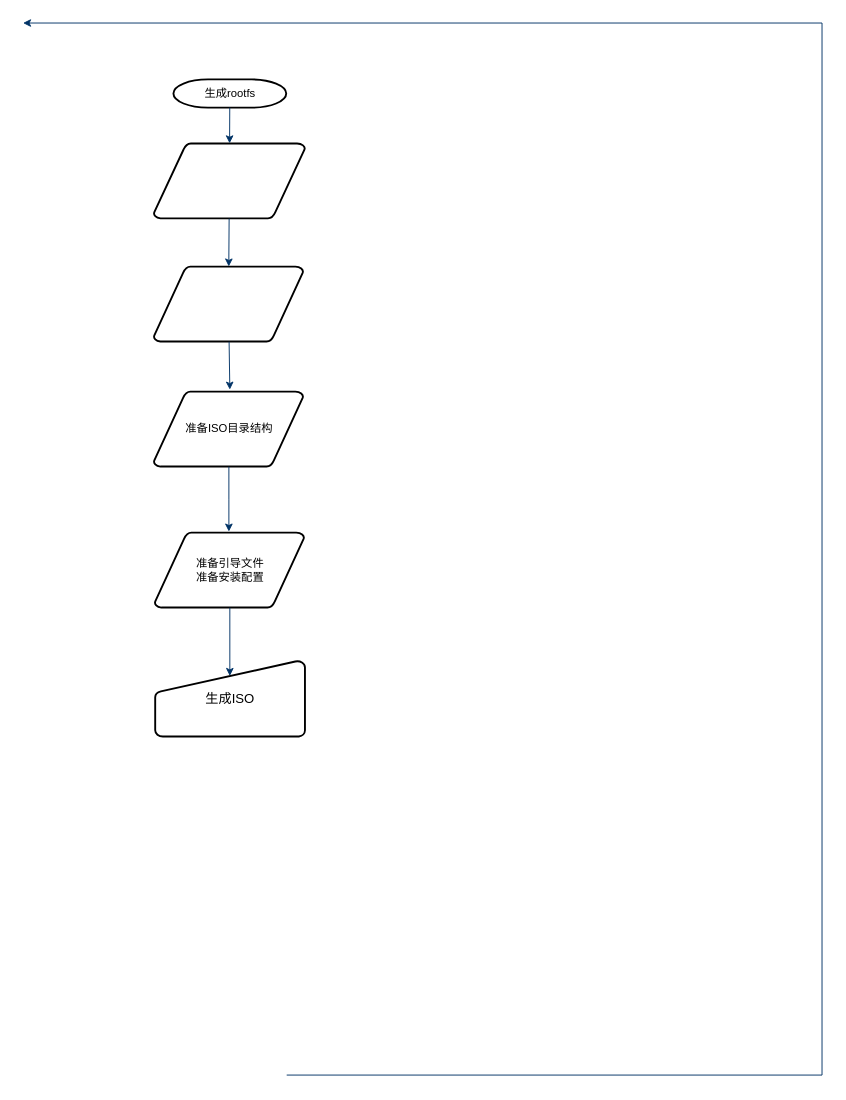
The diagram is 846 pixels wide and 1100 high, and some of its shapes have lost their labels. The box of each missing label's shape, as (x1, y1, x2, y2) in pixels:
chroot到rootfs 安装所需软件包: (152, 142, 306, 219)
生成 Squashfs: (152, 265, 304, 342)
